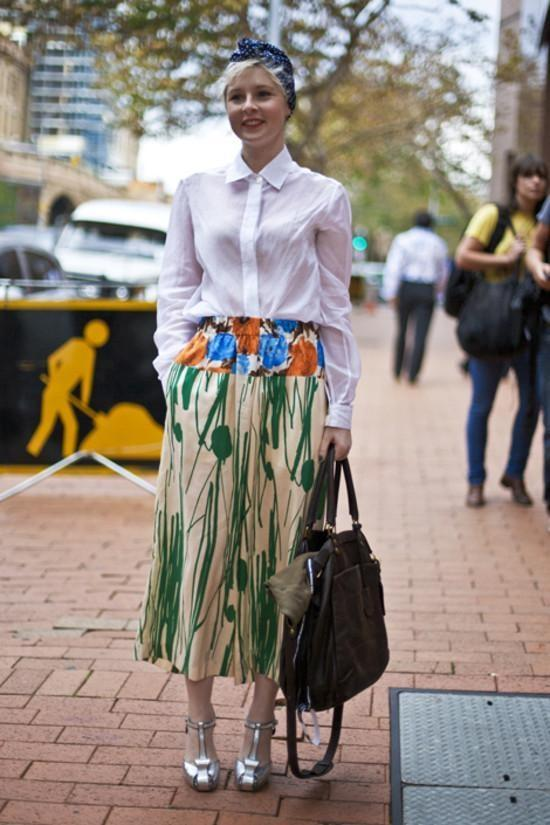shirt: (152, 144, 362, 428)
skirt: (134, 316, 328, 684)
